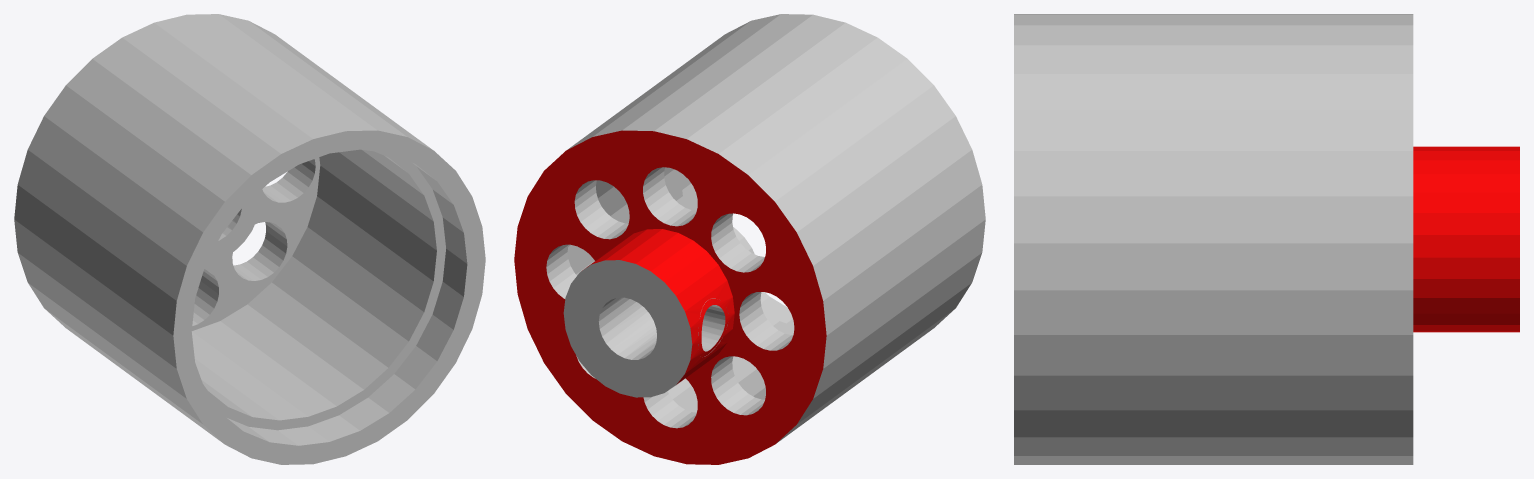
Rendered from cuboaluguel1_01_12714_2_stp_1_32_36.obj.
3 renders of one model, left to right at view 1: azimuth 30°, elevation 25°; view 2: azimuth 150°, elevation 25°; view 3: azimuth 270°, elevation 25°, orthographic. The views are drawn at different scales.
Parts seen in each view (by area): view 1: Object1; view 2: Object1; view 3: Object1.
Boxes of the visible parts, x1,y1,x2,y2 form: Object1: (14, 14, 485, 464); Object1: (514, 14, 985, 464); Object1: (1014, 14, 1519, 464).
Size of the model in its own units: 17 by 16.91 by 19.
